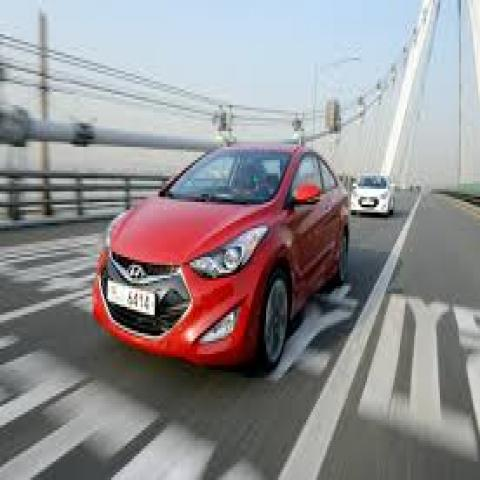LP: (103, 274, 164, 326)
